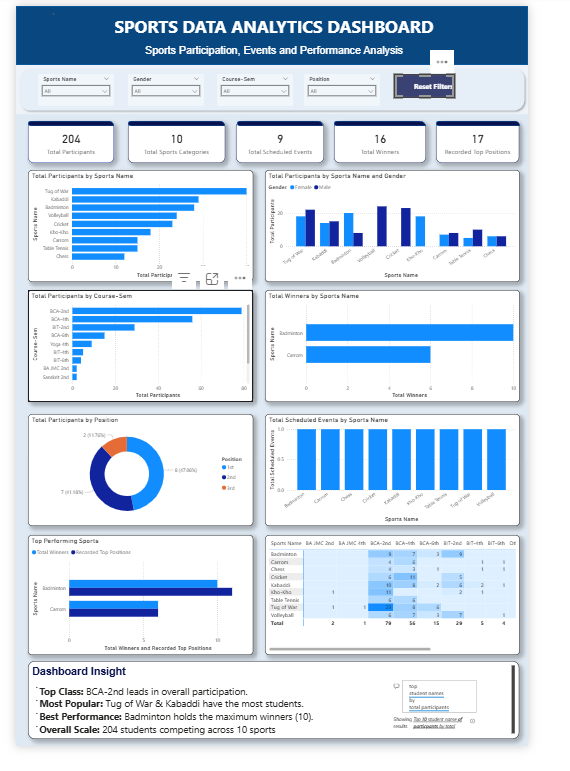

This screenshot's page, from the dashboard's own definition file:
{"tool":"powerbi","page":{"name":"Page 1","canvas":[1280,1851],"ordinal":0},"visuals":[{"type":"shape","box":[0,147.5,1280,122.5],"z":0},{"type":"shape","box":[0,0,1280,147.5],"z":1000},{"type":"textbox","box":[55,17.5,1180,130],"z":2000},{"type":"card","fields":{"Values":["Sheet1.Total Participants"]},"box":[30,287.5,215,105],"z":3000},{"type":"card","fields":{"Values":["Sheet1.Total Sports Categories"]},"box":[280,287.5,242.5,105],"z":4000},{"type":"card","fields":{"Values":["Sheet1.Total Scheduled Events"]},"box":[550,287.5,220,105],"z":5000},{"type":"card","fields":{"Values":["Sheet1.Total Winners"]},"box":[795,287.5,230,105],"z":6000},{"type":"card","fields":{"Values":["Sheet1.Recorded Top Positions"]},"box":[1050,287.5,207.5,105],"z":7000},{"type":"slicer","fields":{"Values":["particpants.Sports Name"]},"box":[55,170,190,80],"z":8000},{"type":"slicer","fields":{"Values":["particpants.Gender"]},"box":[280,170,190,80],"z":9000},{"type":"slicer","fields":{"Values":["particpants.Course-Sem"]},"box":[502.5,170,190,80],"z":10000},{"type":"slicer","fields":{"Values":["particpants.Position"]},"box":[720,170,190,80],"z":11000},{"type":"clusteredBarChart","fields":{"Category":["particpants.Sports Name"],"Y":["Sheet1.Total Participants"]},"box":[30,410,563.3,280],"z":12000},{"type":"clusteredColumnChart","fields":{"Category":["particpants.Sports Name"],"Y":["Sheet1.Total Participants"],"Series":["particpants.Gender"]},"box":[621.7,410,636.7,280],"z":13000},{"type":"clusteredBarChart","fields":{"Category":["particpants.Course-Sem"],"Y":["Sheet1.Total Participants"]},"box":[30,710,563.3,280],"z":14000},{"type":"clusteredBarChart","fields":{"Category":["particpants.Sports Name"],"Y":["Sheet1.Total Winners"]},"box":[621.7,710,636.7,280],"z":15000},{"type":"donutChart","fields":{"Category":["particpants.Position"],"Y":["Sheet1.Total Participants"]},"box":[30,1020,563.3,280],"z":16000},{"type":"clusteredColumnChart","fields":{"Category":["Sheet1.Sports Name"],"Y":["Sheet1.Total Scheduled Events"]},"box":[621.7,1020,636.7,280],"z":17000},{"type":"clusteredBarChart","title":"Top Performing Sports","fields":{"Category":["particpants.Sports Name"],"Y":["Sheet1.Total Winners","Sheet1.Recorded Top Positions"]},"box":[30,1323.3,563.3,300],"z":18000},{"type":"pivotTable","fields":{"Rows":["particpants.Sports Name"],"Columns":["particpants.Course-Sem"],"Values":["Sheet1.Total Participants"]},"box":[621.7,1323.3,636.7,300],"z":19000},{"type":"shape","box":[795,287.5,230,12.5],"z":21000},{"type":"shape","box":[552.5,287.5,215,12.5],"z":22000},{"type":"shape","box":[30,287.5,215,12.5],"z":23000},{"type":"shape","box":[280,287.5,242.5,12.5],"z":24000},{"type":"shape","box":[1050,287.5,210,12.5],"z":25000},{"type":"actionButton","box":[87.5,0,12.5,40],"z":26000},{"type":"actionButton","box":[945,170,152.5,60],"z":27000},{"type":"textbox","box":[30,1637.5,1227.5,195],"z":27001},{"type":"qnaVisual","box":[935,1660,220,150],"z":27002}]}

Visuals, with their boxes in screenshot pixels (x1, y1, x2, y2):
shape: box(18, 64, 525, 113)
shape: box(18, 6, 525, 64)
textbox: box(40, 13, 507, 64)
card - Sheet1.Total Participants: box(30, 120, 115, 162)
card - Sheet1.Total Sports Categories: box(129, 120, 225, 162)
card - Sheet1.Total Scheduled Events: box(236, 120, 323, 162)
card - Sheet1.Total Winners: box(333, 120, 424, 162)
card - Sheet1.Recorded Top Positions: box(434, 120, 516, 162)
slicer - particpants.Sports Name: box(40, 73, 115, 105)
slicer - particpants.Gender: box(129, 73, 204, 105)
slicer - particpants.Course-Sem: box(217, 73, 292, 105)
slicer - particpants.Position: box(303, 73, 379, 105)
clusteredBarChart - particpants.Sports Name x Sheet1.Total Participants: box(30, 168, 253, 279)
clusteredColumnChart - particpants.Sports Name x Sheet1.Total Participants: box(264, 168, 517, 279)
clusteredBarChart - particpants.Course-Sem x Sheet1.Total Participants: box(30, 287, 253, 398)
clusteredBarChart - particpants.Sports Name x Sheet1.Total Winners: box(264, 287, 517, 398)
donutChart - particpants.Position x Sheet1.Total Participants: box(30, 410, 253, 521)
clusteredColumnChart - Sheet1.Sports Name x Sheet1.Total Scheduled Events: box(264, 410, 517, 521)
"Top Performing Sports" clusteredBarChart: box(30, 530, 253, 649)
pivotTable - particpants.Sports Name x particpants.Course-Sem: box(264, 530, 517, 649)
shape: box(333, 120, 424, 125)
shape: box(237, 120, 322, 125)
shape: box(30, 120, 115, 125)
shape: box(129, 120, 225, 125)
shape: box(434, 120, 517, 125)
actionButton: box(53, 6, 58, 22)
actionButton: box(392, 73, 453, 97)
textbox: box(30, 655, 516, 732)
qnaVisual: box(389, 664, 476, 723)
